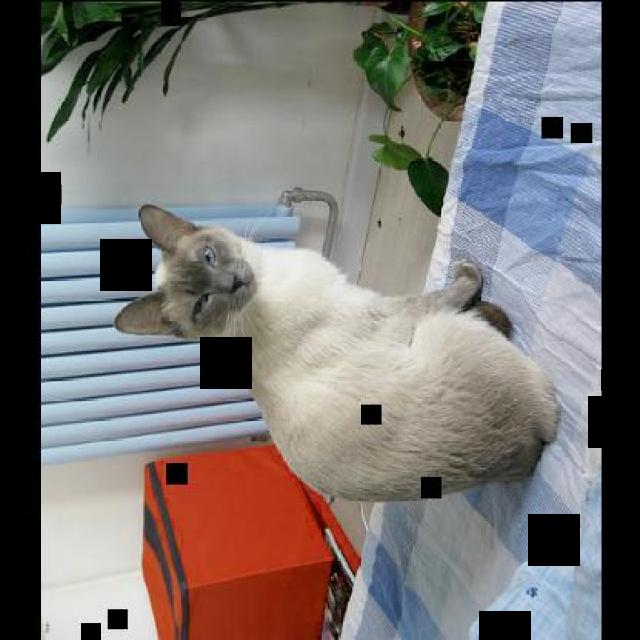unauthorized: (112, 202, 560, 504)
